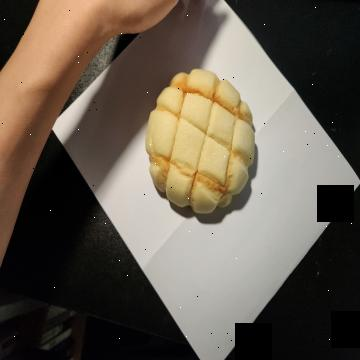melon_bread: (145, 66, 256, 220)
